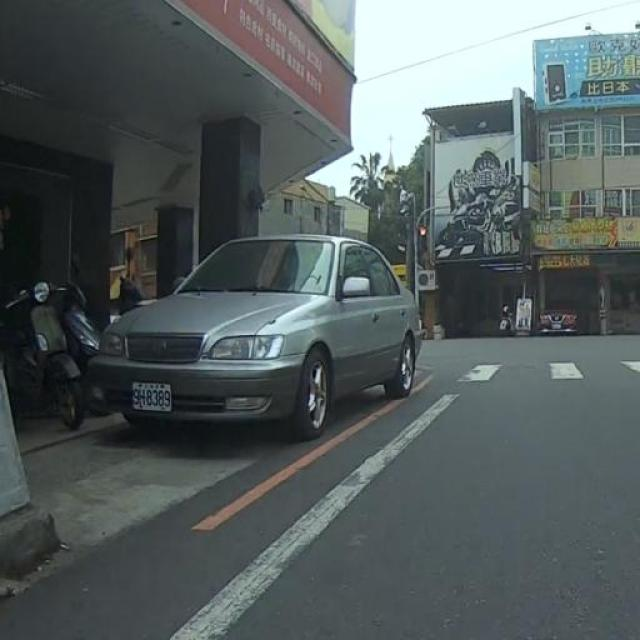illegalparking: (76, 200, 499, 462)
